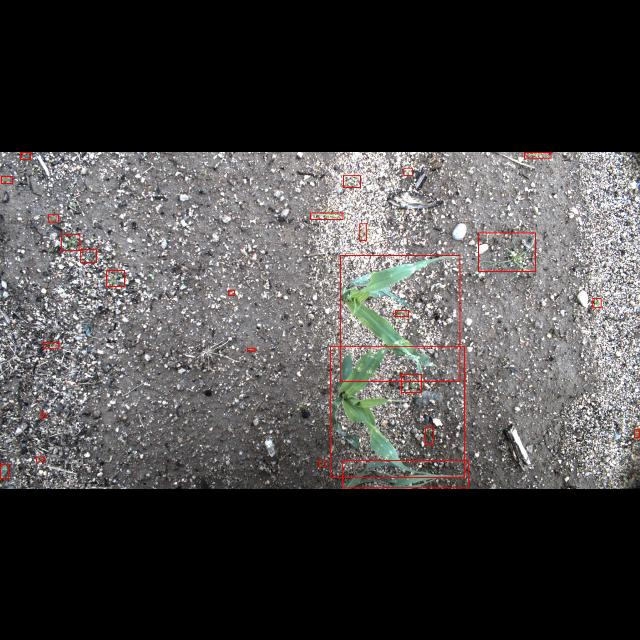crop: (330, 347, 464, 478), (340, 255, 460, 381), (342, 460, 468, 488)
weed: (478, 232, 536, 270), (401, 374, 421, 392), (60, 233, 80, 250), (106, 270, 124, 286), (81, 248, 97, 262), (344, 175, 361, 187), (311, 212, 344, 218), (525, 151, 551, 157), (425, 426, 433, 444), (0, 464, 8, 478), (360, 222, 366, 240), (44, 342, 58, 348), (395, 310, 409, 316), (593, 297, 601, 307), (1, 175, 12, 182), (48, 213, 58, 220), (404, 167, 412, 175), (20, 152, 30, 158), (36, 456, 44, 462), (634, 429, 640, 437), (319, 459, 325, 466), (41, 412, 45, 418), (228, 290, 234, 294), (247, 348, 255, 350)
